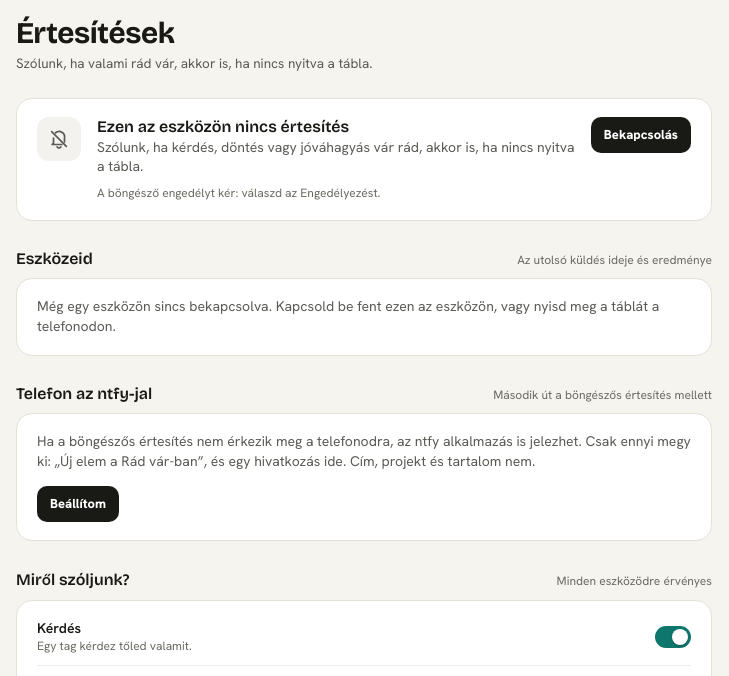
Test case: this device › shows the endpoint-taken message when the second subscribe is refused too
Click the button "Bekapcsolás" at (641, 135), box [591,117,691,153]
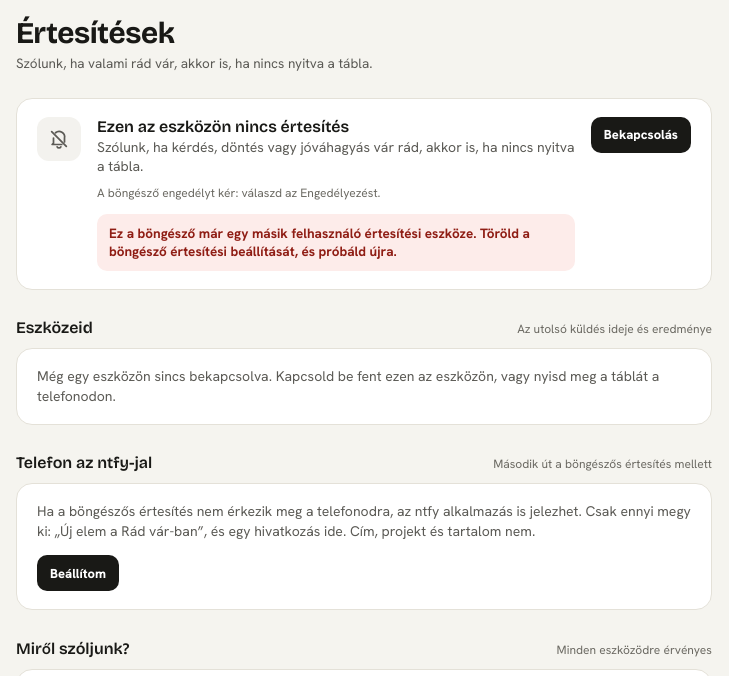
Expected: the text "Ez a böngésző már egy másik felhasználó értesítési eszköze. Töröld a böngésző értesítési beállítását, és próbáld újra." is shown, [109,224,530,260]
